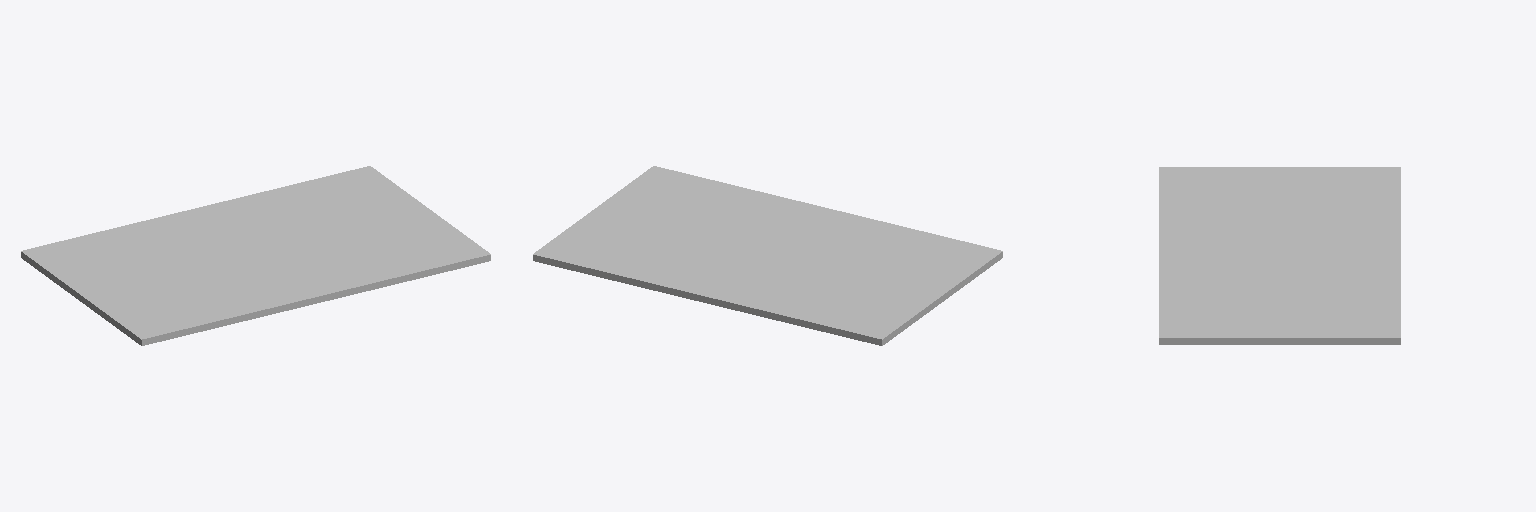
The model's file is Tower_Block_Platform_6x10.obj.
3 renders of one model, left to right at view 1: azimuth 30°, elevation 25°; view 2: azimuth 150°, elevation 25°; view 3: azimuth 270°, elevation 25°, orthographic.
Parts seen in each view (by area): view 1: Tower_Block_Platform_6x10; view 2: Tower_Block_Platform_6x10; view 3: Tower_Block_Platform_6x10.
Part boxes in pixels (left/top/right/bottom): Tower_Block_Platform_6x10: left=21, top=166, right=490, bottom=345; Tower_Block_Platform_6x10: left=533, top=166, right=1002, bottom=345; Tower_Block_Platform_6x10: left=1159, top=167, right=1400, bottom=344.
Bounding box in the file's own units: 16.52 × 0.3 × 9.91.